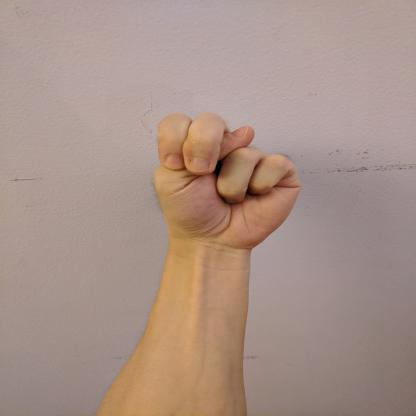N: (150, 110, 305, 254)
